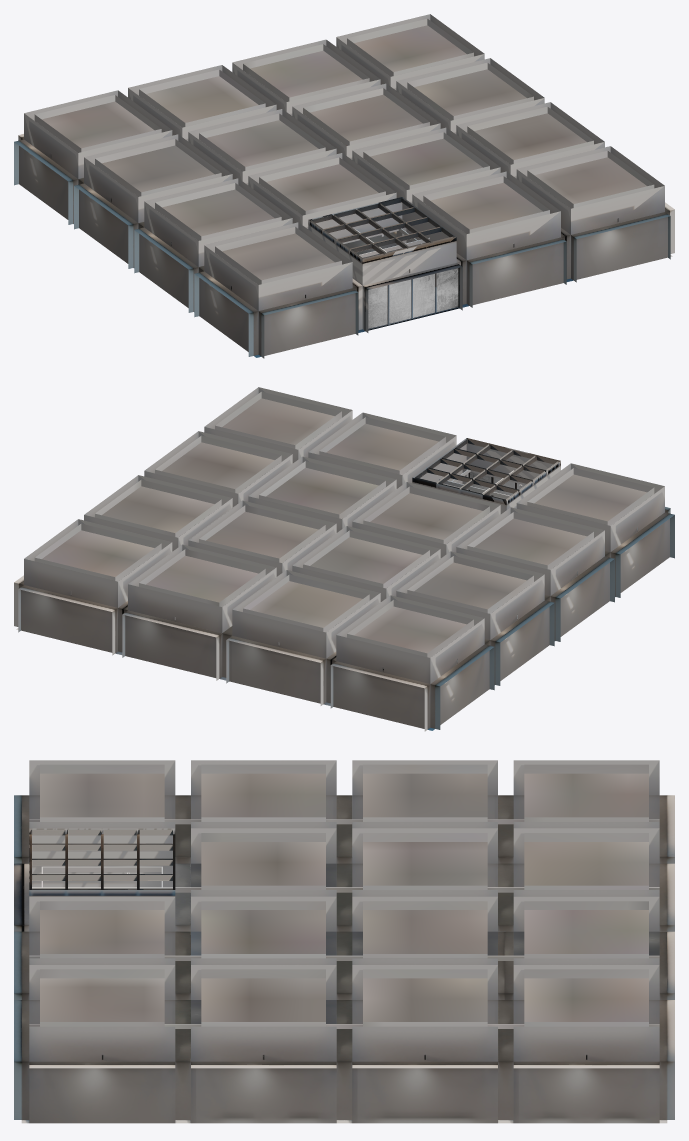
File: VR Art Gallery 2020 L _ Baked + Max Scene.fbx
3 renders of one model, top to bottom at view 1: azimuth 30°, elevation 25°; view 2: azimuth 150°, elevation 25°; view 3: azimuth 270°, elevation 25°, orthographic. The views are drawn at different scales.
Parts seen in each view (by area): view 1: ceiling, walls, floor, glass, windows; view 2: ceiling, walls, floor, windows; view 3: ceiling, walls, floor, windows.
Part boxes in pixels (<box>): ceiling: <box>34,18,654,284</box>; walls: <box>14,14,674,358</box>; floor: <box>19,146,672,357</box>; glass: <box>368,268,458,328</box>; windows: <box>311,198,458,329</box>; ceiling: <box>34,391,654,668</box>; walls: <box>14,387,674,731</box>; floor: <box>16,519,669,730</box>; windows: <box>415,439,558,500</box>; ceiling: <box>29,764,659,1028</box>; walls: <box>14,760,674,1119</box>; floor: <box>21,795,667,1123</box>; windows: <box>29,829,175,889</box>.
Size of the model in its own units: 51.2 by 8 by 51.2.
